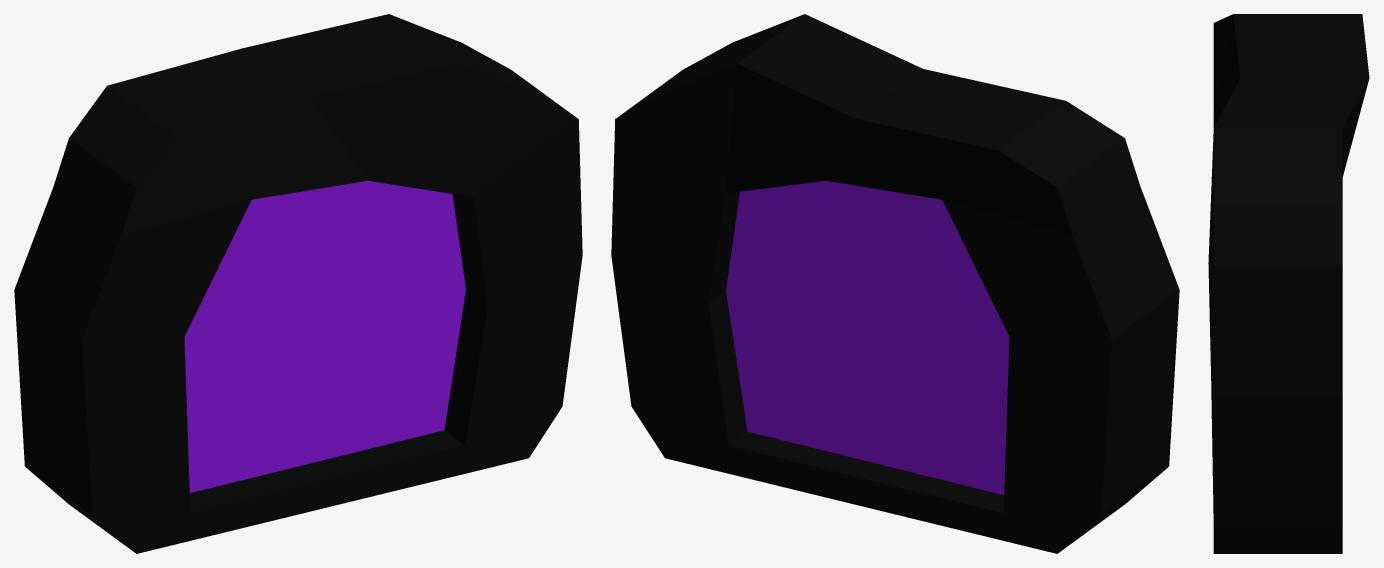
Rendered from NPC_Portal.fbx.
3 views of the same model, side by side, from view 1: azimuth 30°, elevation 25°; view 2: azimuth 150°, elevation 25°; view 3: azimuth 270°, elevation 25° (orthographic). The views are drawn at different scales.
Parts seen in each view (by area): view 1: Portal_walls, Portal; view 2: Portal_walls, Portal; view 3: Portal_walls.
Boxes of the visible parts, x1=… form: Portal_walls: x1=14, y1=14, x2=582, y2=553; Portal: x1=184, y1=180, x2=465, y2=492; Portal_walls: x1=611, y1=14, x2=1179, y2=553; Portal: x1=726, y1=180, x2=1009, y2=494; Portal_walls: x1=1208, y1=14, x2=1369, y2=553.
Size of the model in its own units: 42.68 by 33.59 by 12.49.
